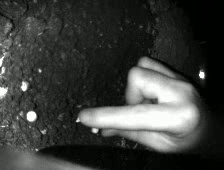corn: (25, 109, 39, 123), (19, 79, 30, 92), (89, 126, 101, 136), (73, 114, 83, 125)
